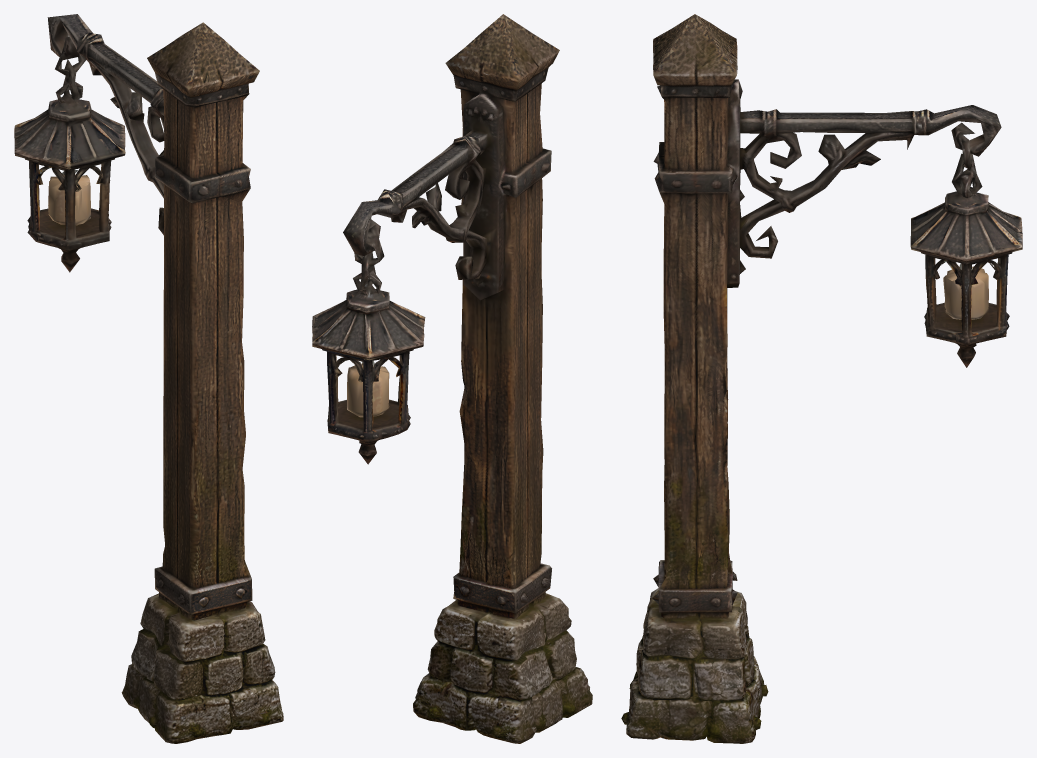
File: lamp_post.glb
3 renders of one model, left to right at view 1: azimuth 30°, elevation 25°; view 2: azimuth 150°, elevation 25°; view 3: azimuth 270°, elevation 25°, orthographic.
Visible parts, largest first — view 1: tripo_node_aad8ba4d-389c-4255-9533-9028d5d5fc8c; view 2: tripo_node_aad8ba4d-389c-4255-9533-9028d5d5fc8c; view 3: tripo_node_aad8ba4d-389c-4255-9533-9028d5d5fc8c.
Part boxes in pixels (left/top/right/bottom): tripo_node_aad8ba4d-389c-4255-9533-9028d5d5fc8c: left=14, top=14, right=283, bottom=743; tripo_node_aad8ba4d-389c-4255-9533-9028d5d5fc8c: left=312, top=14, right=592, bottom=743; tripo_node_aad8ba4d-389c-4255-9533-9028d5d5fc8c: left=621, top=14, right=1022, bottom=743.
Bounding box in the file's own units: 0.1869 × 0.9783 × 0.5078.
Materials: 1 (1 with a texture image).
